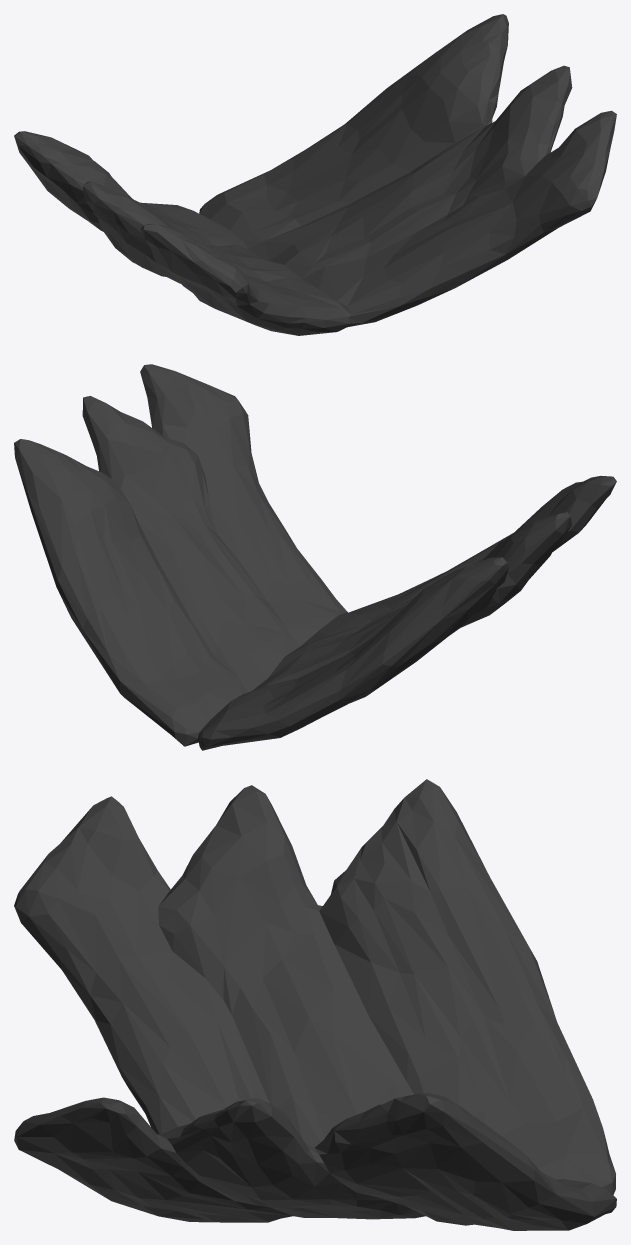
The model's file is m_serratus_dorsalis_caudalis.glb.
3 renders of one model, top to bottom at view 1: azimuth 30°, elevation 25°; view 2: azimuth 150°, elevation 25°; view 3: azimuth 270°, elevation 25°, orthographic. The views are drawn at different scales.
Parts seen in each view (by area): view 1: m_serratus_dorsalis_caudalis; view 2: m_serratus_dorsalis_caudalis; view 3: m_serratus_dorsalis_caudalis.
Boxes of the visible parts, bbox=[...] form: m_serratus_dorsalis_caudalis: bbox=[14, 14, 616, 335]; m_serratus_dorsalis_caudalis: bbox=[14, 364, 616, 750]; m_serratus_dorsalis_caudalis: bbox=[14, 779, 616, 1230].
Size of the model in its own units: 0.00334 by 0.00132 by 0.00263.
Materials: 1 (1 with a texture image).
